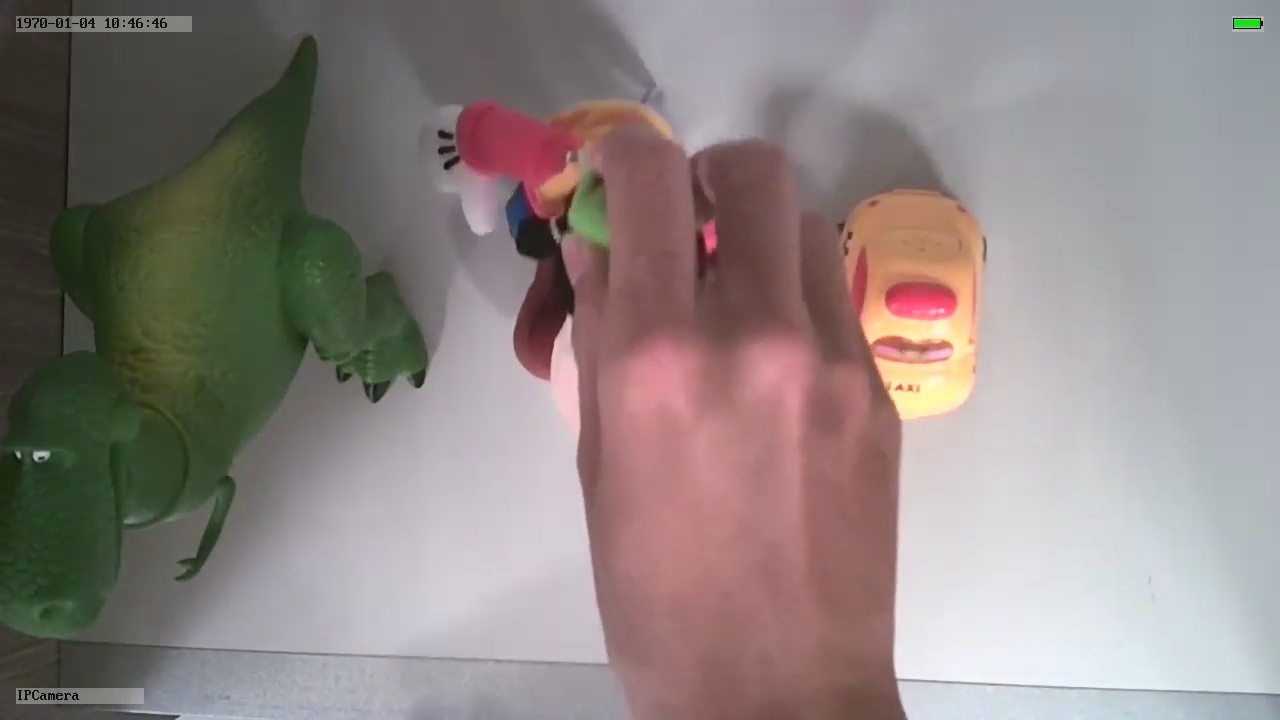rex: (1, 140, 430, 637)
